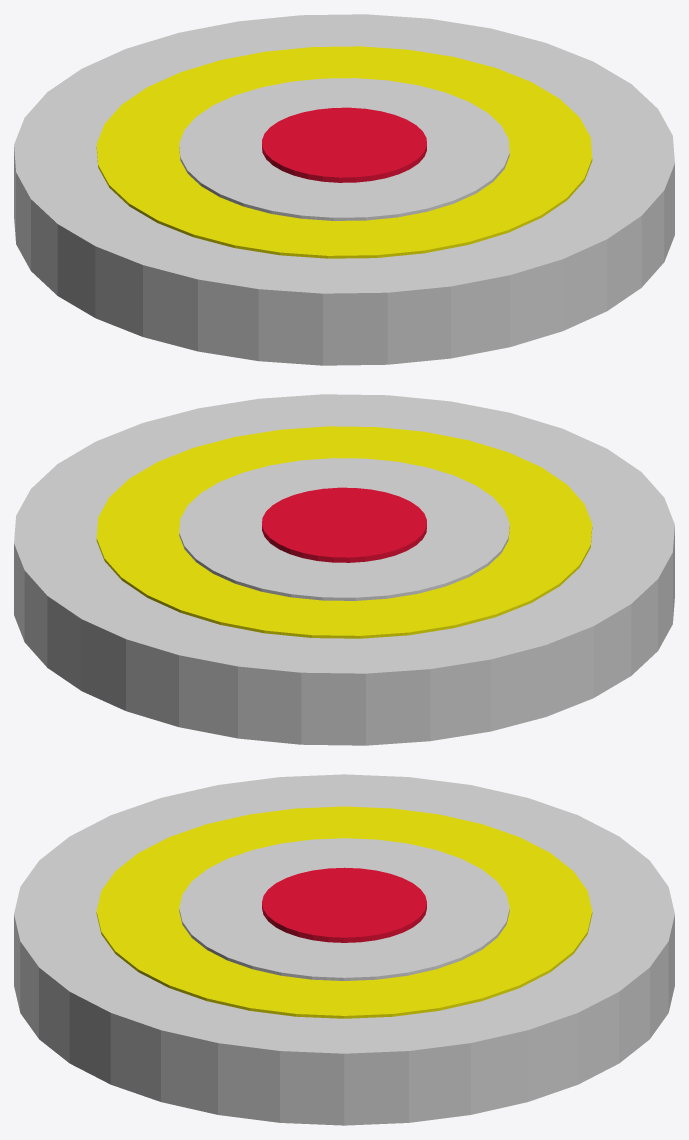
File: TargetRender.fbx
3 views of the same model, one above another, from view 1: azimuth 30°, elevation 25°; view 2: azimuth 150°, elevation 25°; view 3: azimuth 270°, elevation 25° (orthographic).
Visible parts, largest first — view 1: Target; view 2: Target; view 3: Target.
Part boxes in pixels (x1,y1,x2,y2): Target: (14,14,674,365); Target: (14,394,674,745); Target: (14,774,674,1125).
Bounding box in the file's own units: 200 × 27.78 × 200.
